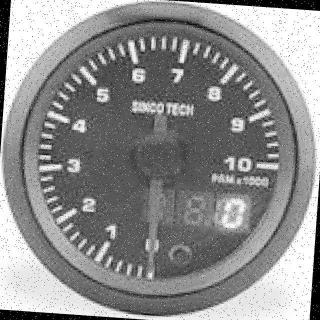gauge: (0, 0, 320, 320), (129, 131, 187, 181), (218, 145, 283, 189), (131, 247, 171, 287), (143, 254, 158, 277)
